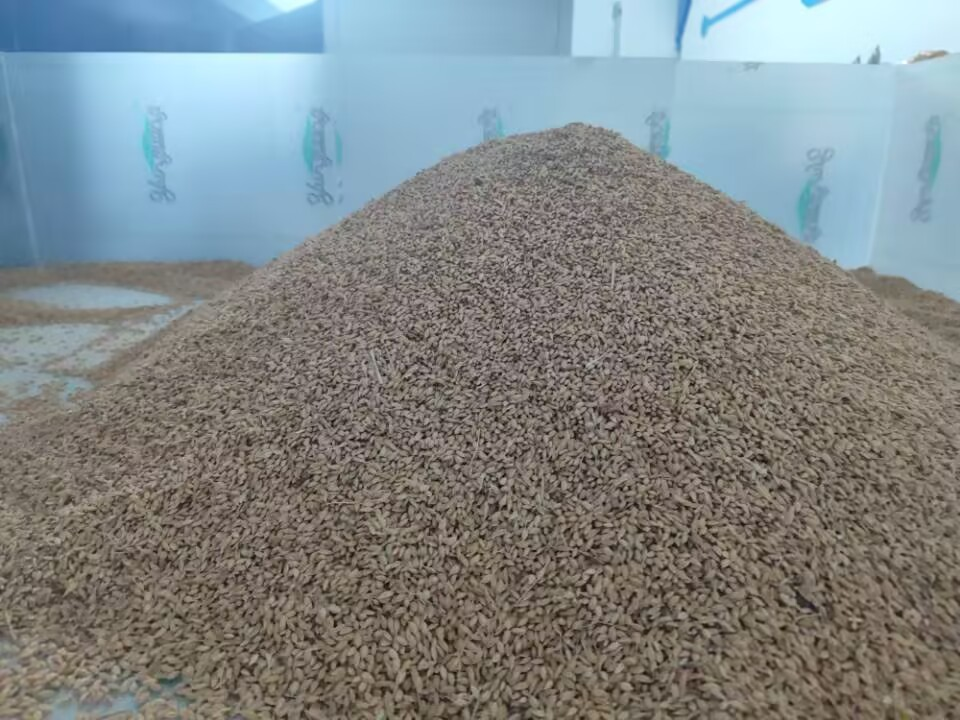Grain: (284, 117, 942, 706)
